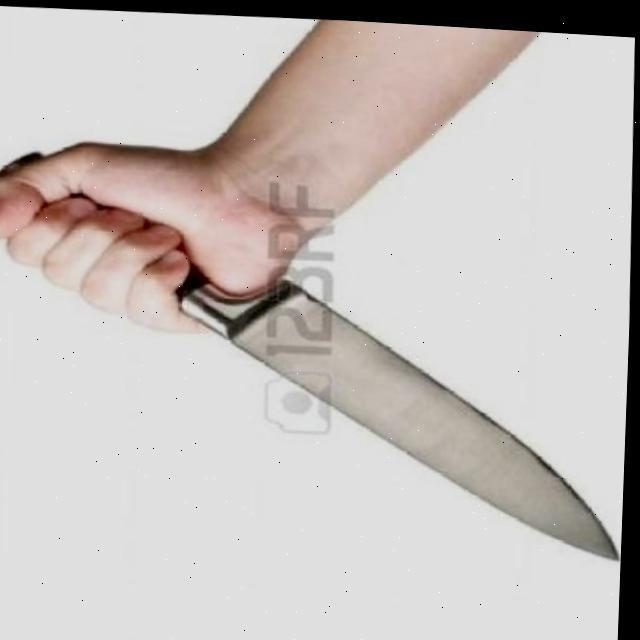knife: (0, 134, 635, 566)
